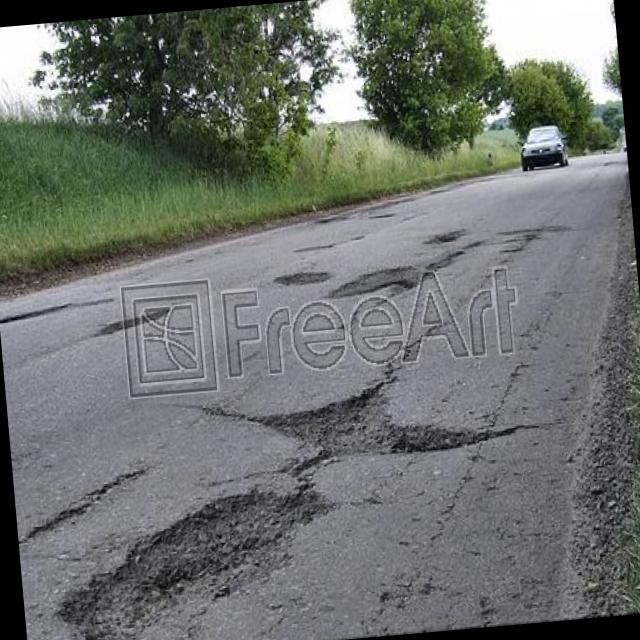Potholes: (3, 324, 522, 640), (331, 237, 483, 303), (0, 283, 106, 344), (100, 300, 192, 342), (268, 262, 329, 298)
